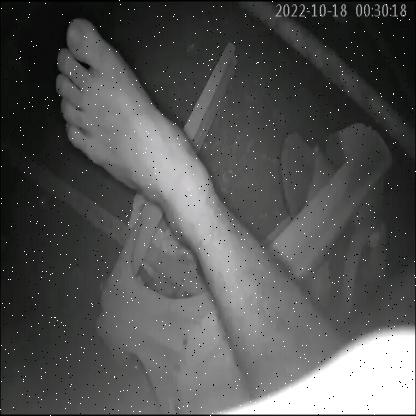leg: (49, 13, 310, 378)
